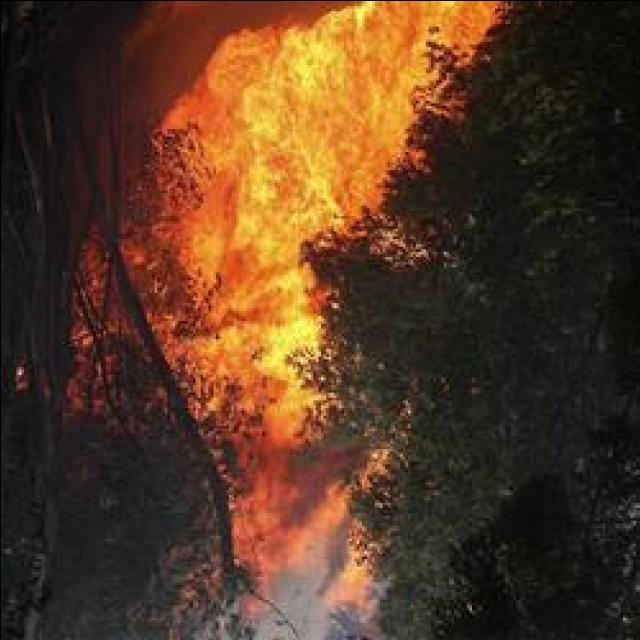fire: (210, 36, 437, 180), (217, 179, 321, 363), (354, 1, 486, 30), (259, 358, 305, 438)
smoke: (262, 440, 341, 560)
